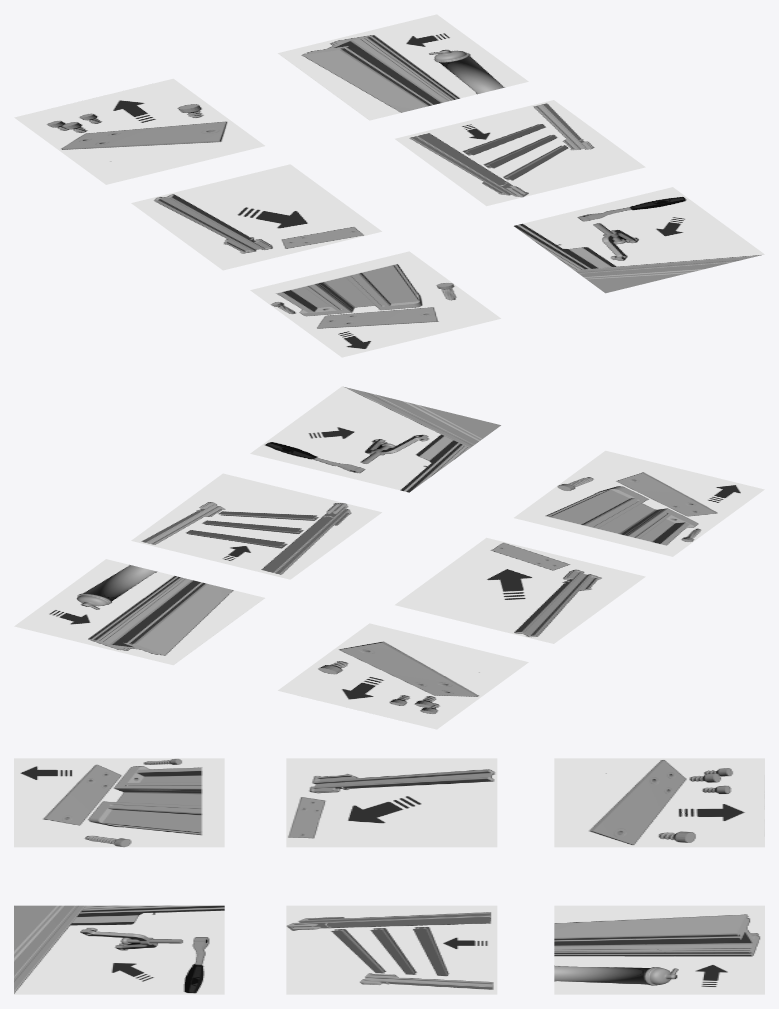
File: InstructionPictures.fbx
The picture shows the model from 3 angles, top to bottom: view 1: azimuth 30°, elevation 25°; view 2: azimuth 150°, elevation 25°; view 3: azimuth 270°, elevation 25°; orthographic projection. The views are drawn at different scales.
Parts seen in each view (by area): view 1: InstructionPictures, InstructionPictures.001, InstructionPictures.002, InstructionPictures.003, InstructionPictures.005, InstructionPictures.004; view 2: InstructionPictures, InstructionPictures.002, InstructionPictures.003, InstructionPictures.004, InstructionPictures.005, InstructionPictures.001; view 3: InstructionPictures.001, InstructionPictures.004, InstructionPictures, InstructionPictures.002, InstructionPictures.003, InstructionPictures.005.
Boxes of the visible parts, x1,y1,x2,y2 form: InstructionPictures: (14, 78, 264, 184); InstructionPictures.001: (131, 164, 381, 270); InstructionPictures.002: (250, 251, 500, 357); InstructionPictures.003: (278, 14, 528, 120); InstructionPictures.005: (514, 187, 764, 293); InstructionPictures.004: (395, 100, 645, 206); InstructionPictures: (278, 623, 528, 729); InstructionPictures.002: (514, 450, 764, 556); InstructionPictures.003: (14, 559, 264, 665); InstructionPictures.004: (131, 473, 381, 579); InstructionPictures.005: (250, 386, 500, 492); InstructionPictures.001: (395, 537, 645, 643); InstructionPictures.001: (286, 758, 497, 847); InstructionPictures.004: (286, 905, 497, 994); InstructionPictures: (554, 758, 764, 847); InstructionPictures.002: (14, 758, 224, 847); InstructionPictures.003: (554, 905, 764, 994); InstructionPictures.005: (14, 905, 224, 994).
Size of the model in its own units: 155 by 3.39e-05 by 208.
